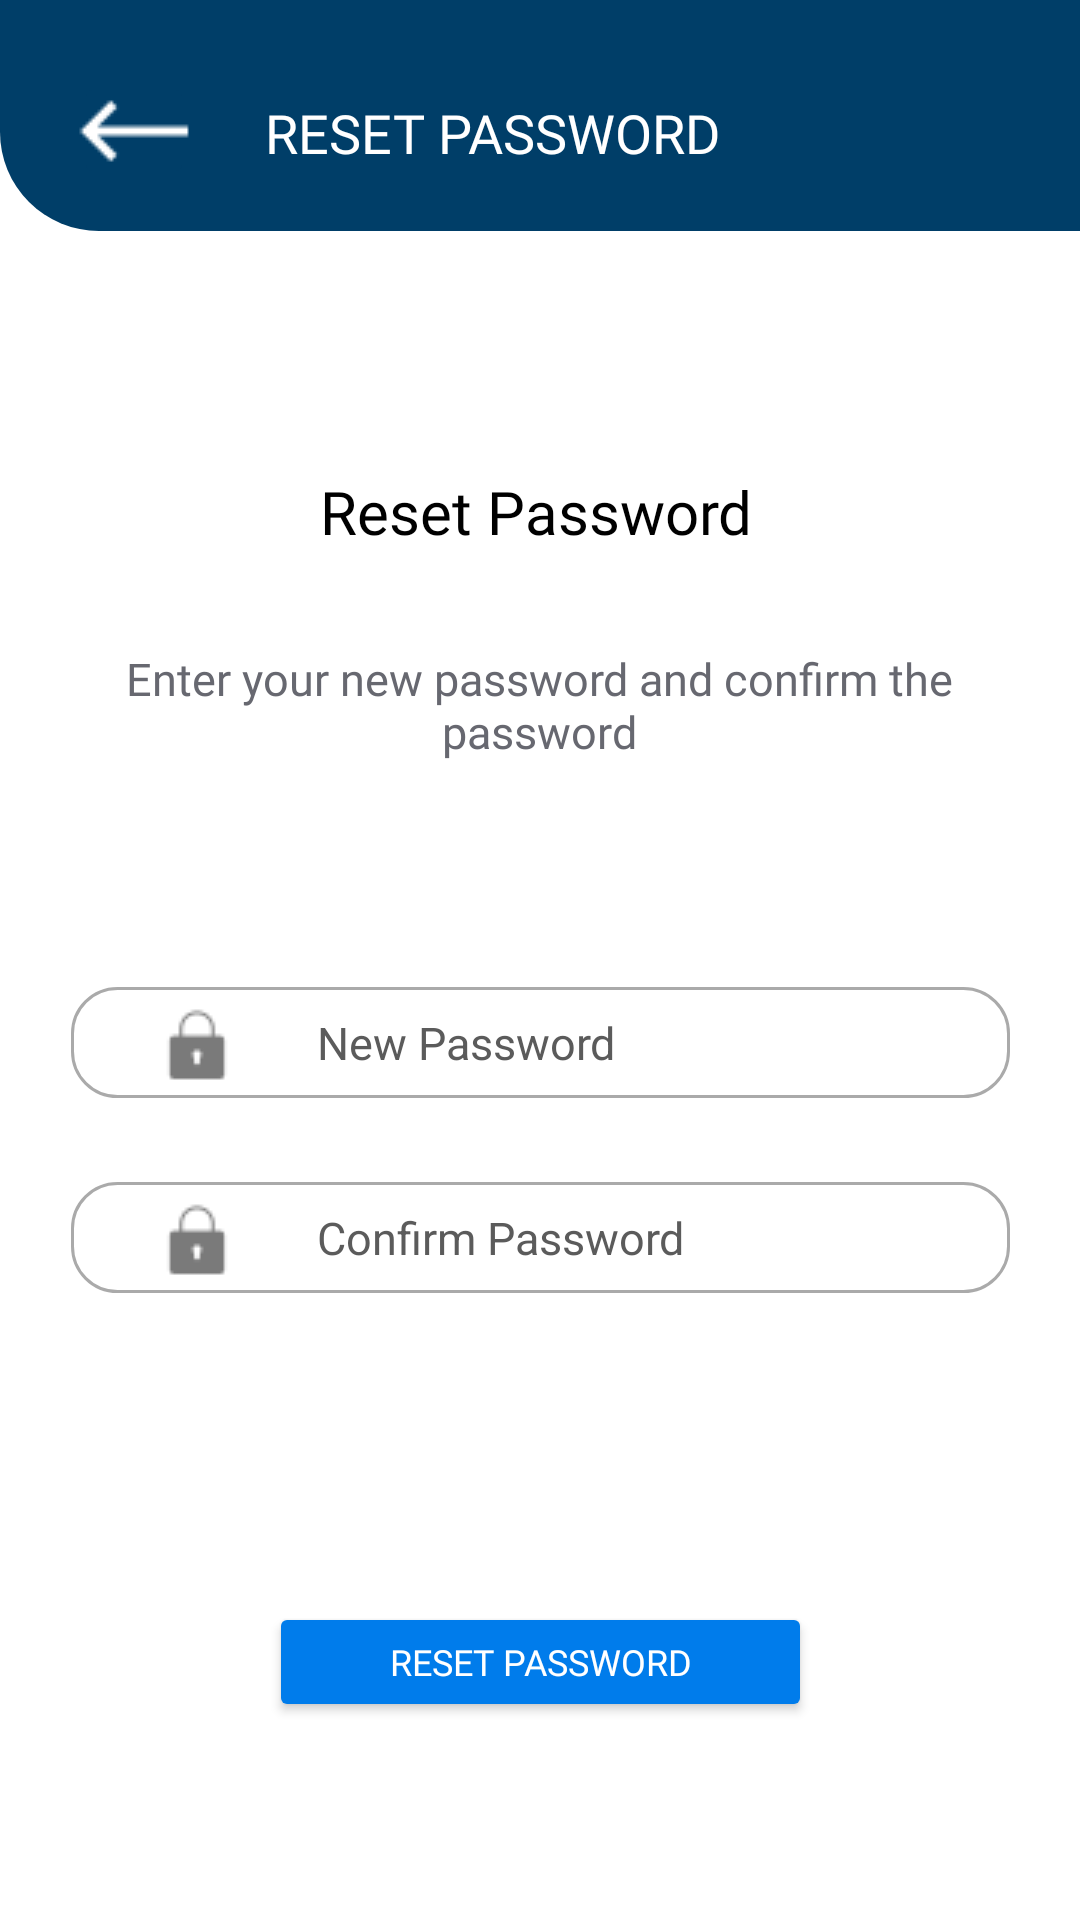

Screen size 1080x1920. Icon name, then its box in pixels as (x1, y1, x2, y2):
back arrow: (79, 100, 189, 162)
